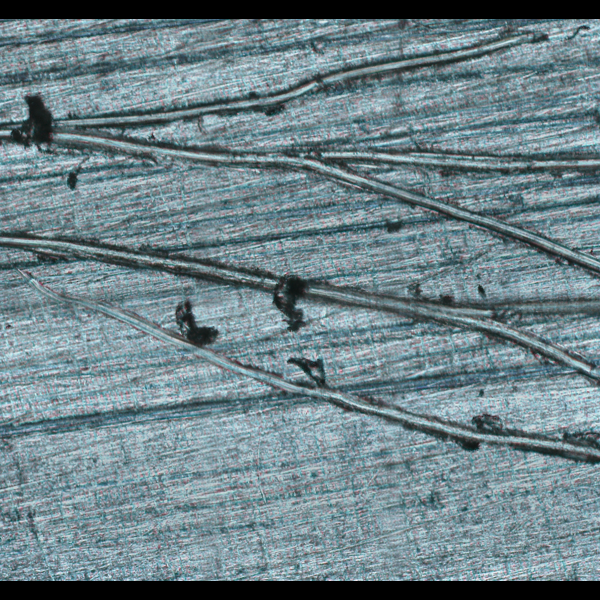d: (0, 23, 599, 488)
